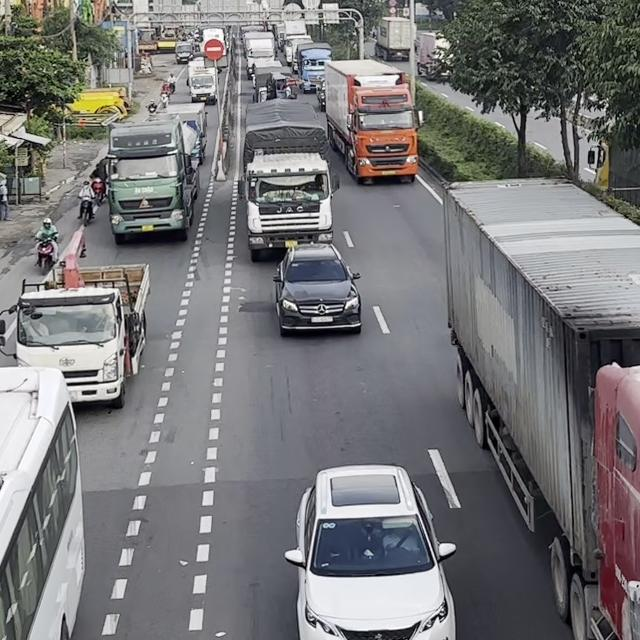bus: (0, 365, 86, 639)
car: (283, 463, 457, 639), (272, 241, 362, 336)
motorcycle: (33, 232, 58, 269), (77, 193, 96, 226), (91, 176, 106, 205)
truck: (442, 175, 639, 639), (0, 230, 151, 409), (238, 98, 339, 261), (322, 58, 423, 185), (101, 117, 200, 244), (166, 101, 208, 167), (296, 43, 332, 92)
